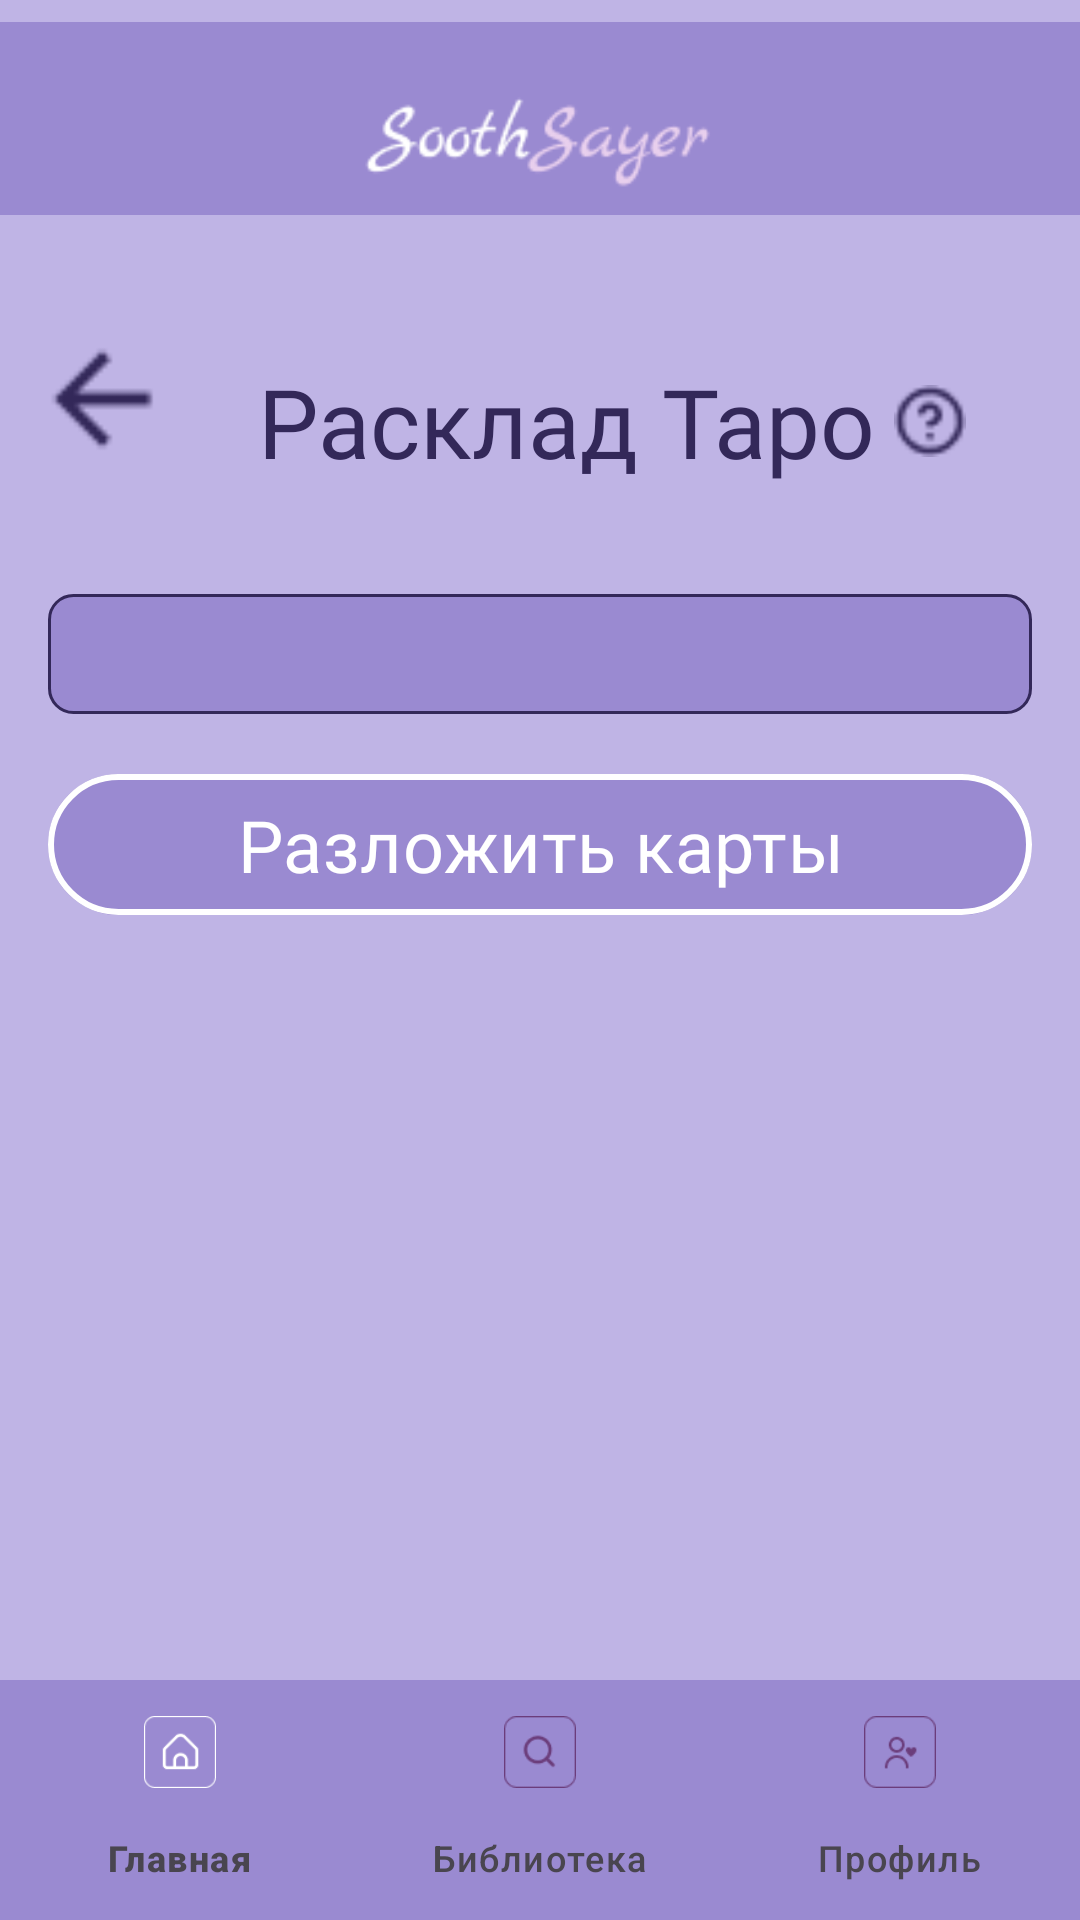

Icons on this 1080×1920 Android screen, each with the point to tap as point (x, y):
back: point (103, 399)
info: point (930, 421)
